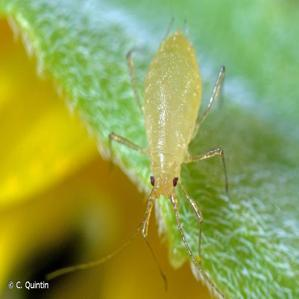Green peach aphid: (64, 15, 264, 250)
